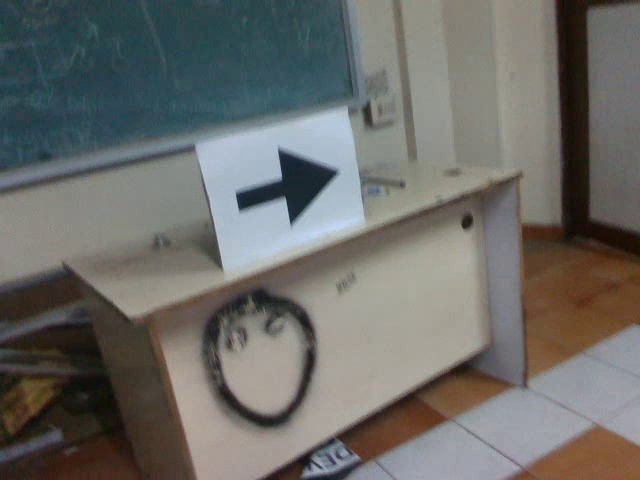Right: (228, 140, 342, 228)
